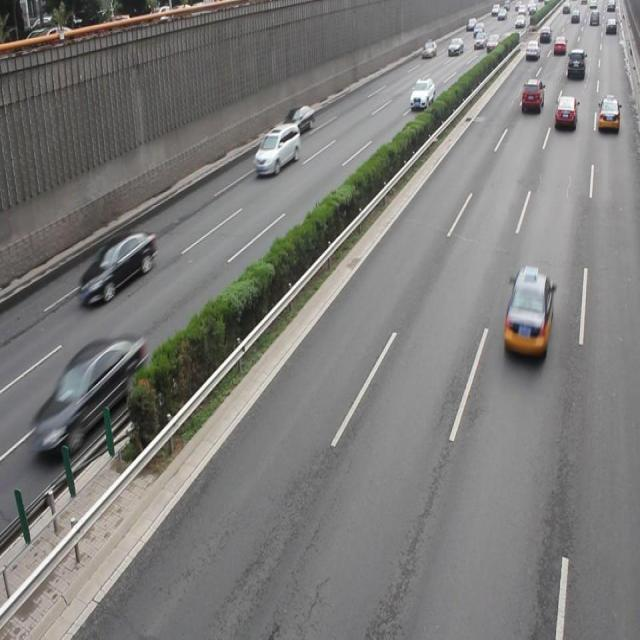car: (31, 335, 148, 460), (77, 231, 156, 306), (500, 268, 552, 363), (280, 105, 314, 136), (596, 95, 618, 134), (554, 94, 576, 129)
truck: (254, 123, 300, 176)
